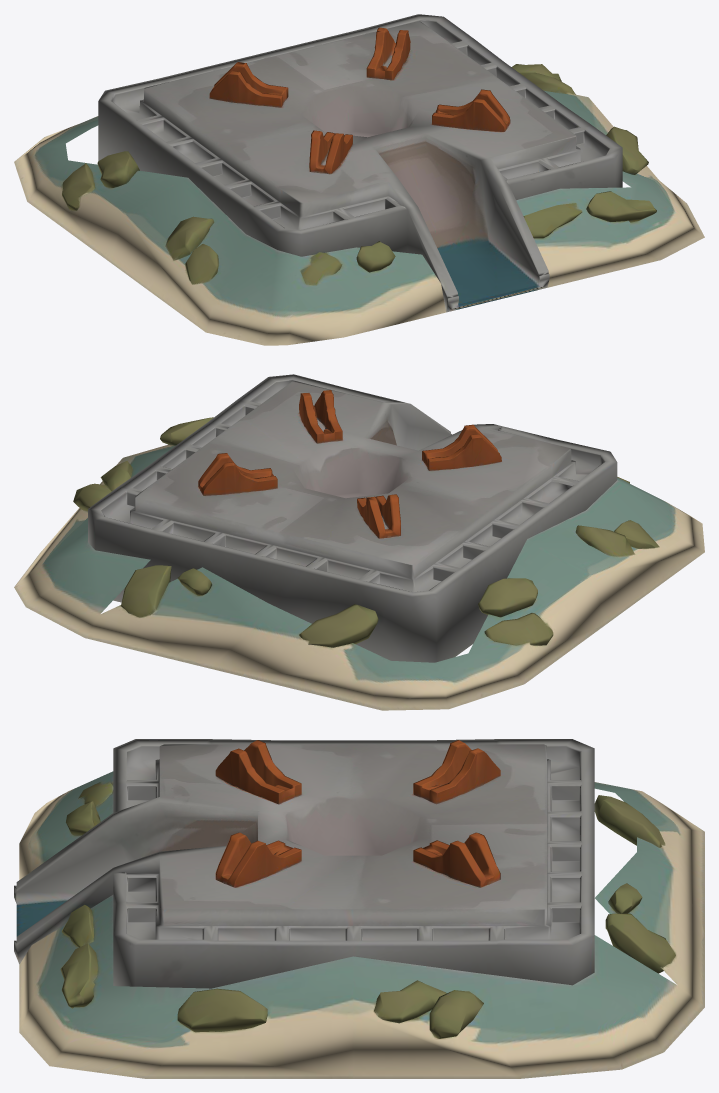
File: original_glb.glb
The picture shows the model from 3 angles, top to bottom: view 1: azimuth 30°, elevation 25°; view 2: azimuth 150°, elevation 25°; view 3: azimuth 270°, elevation 25°; orthographic projection. The views are drawn at different scales.
Visible parts, largest first — view 1: Coastal Launch Pad; view 2: Coastal Launch Pad; view 3: Coastal Launch Pad.
Part boxes in pixels (bbox=[...]): Coastal Launch Pad: bbox=[14, 14, 704, 345]; Coastal Launch Pad: bbox=[14, 374, 704, 710]; Coastal Launch Pad: bbox=[14, 739, 704, 1078].
Bounding box in the file's own units: 0.998 × 0.2246 × 0.9902.
Materials: 1 (1 with a texture image).
